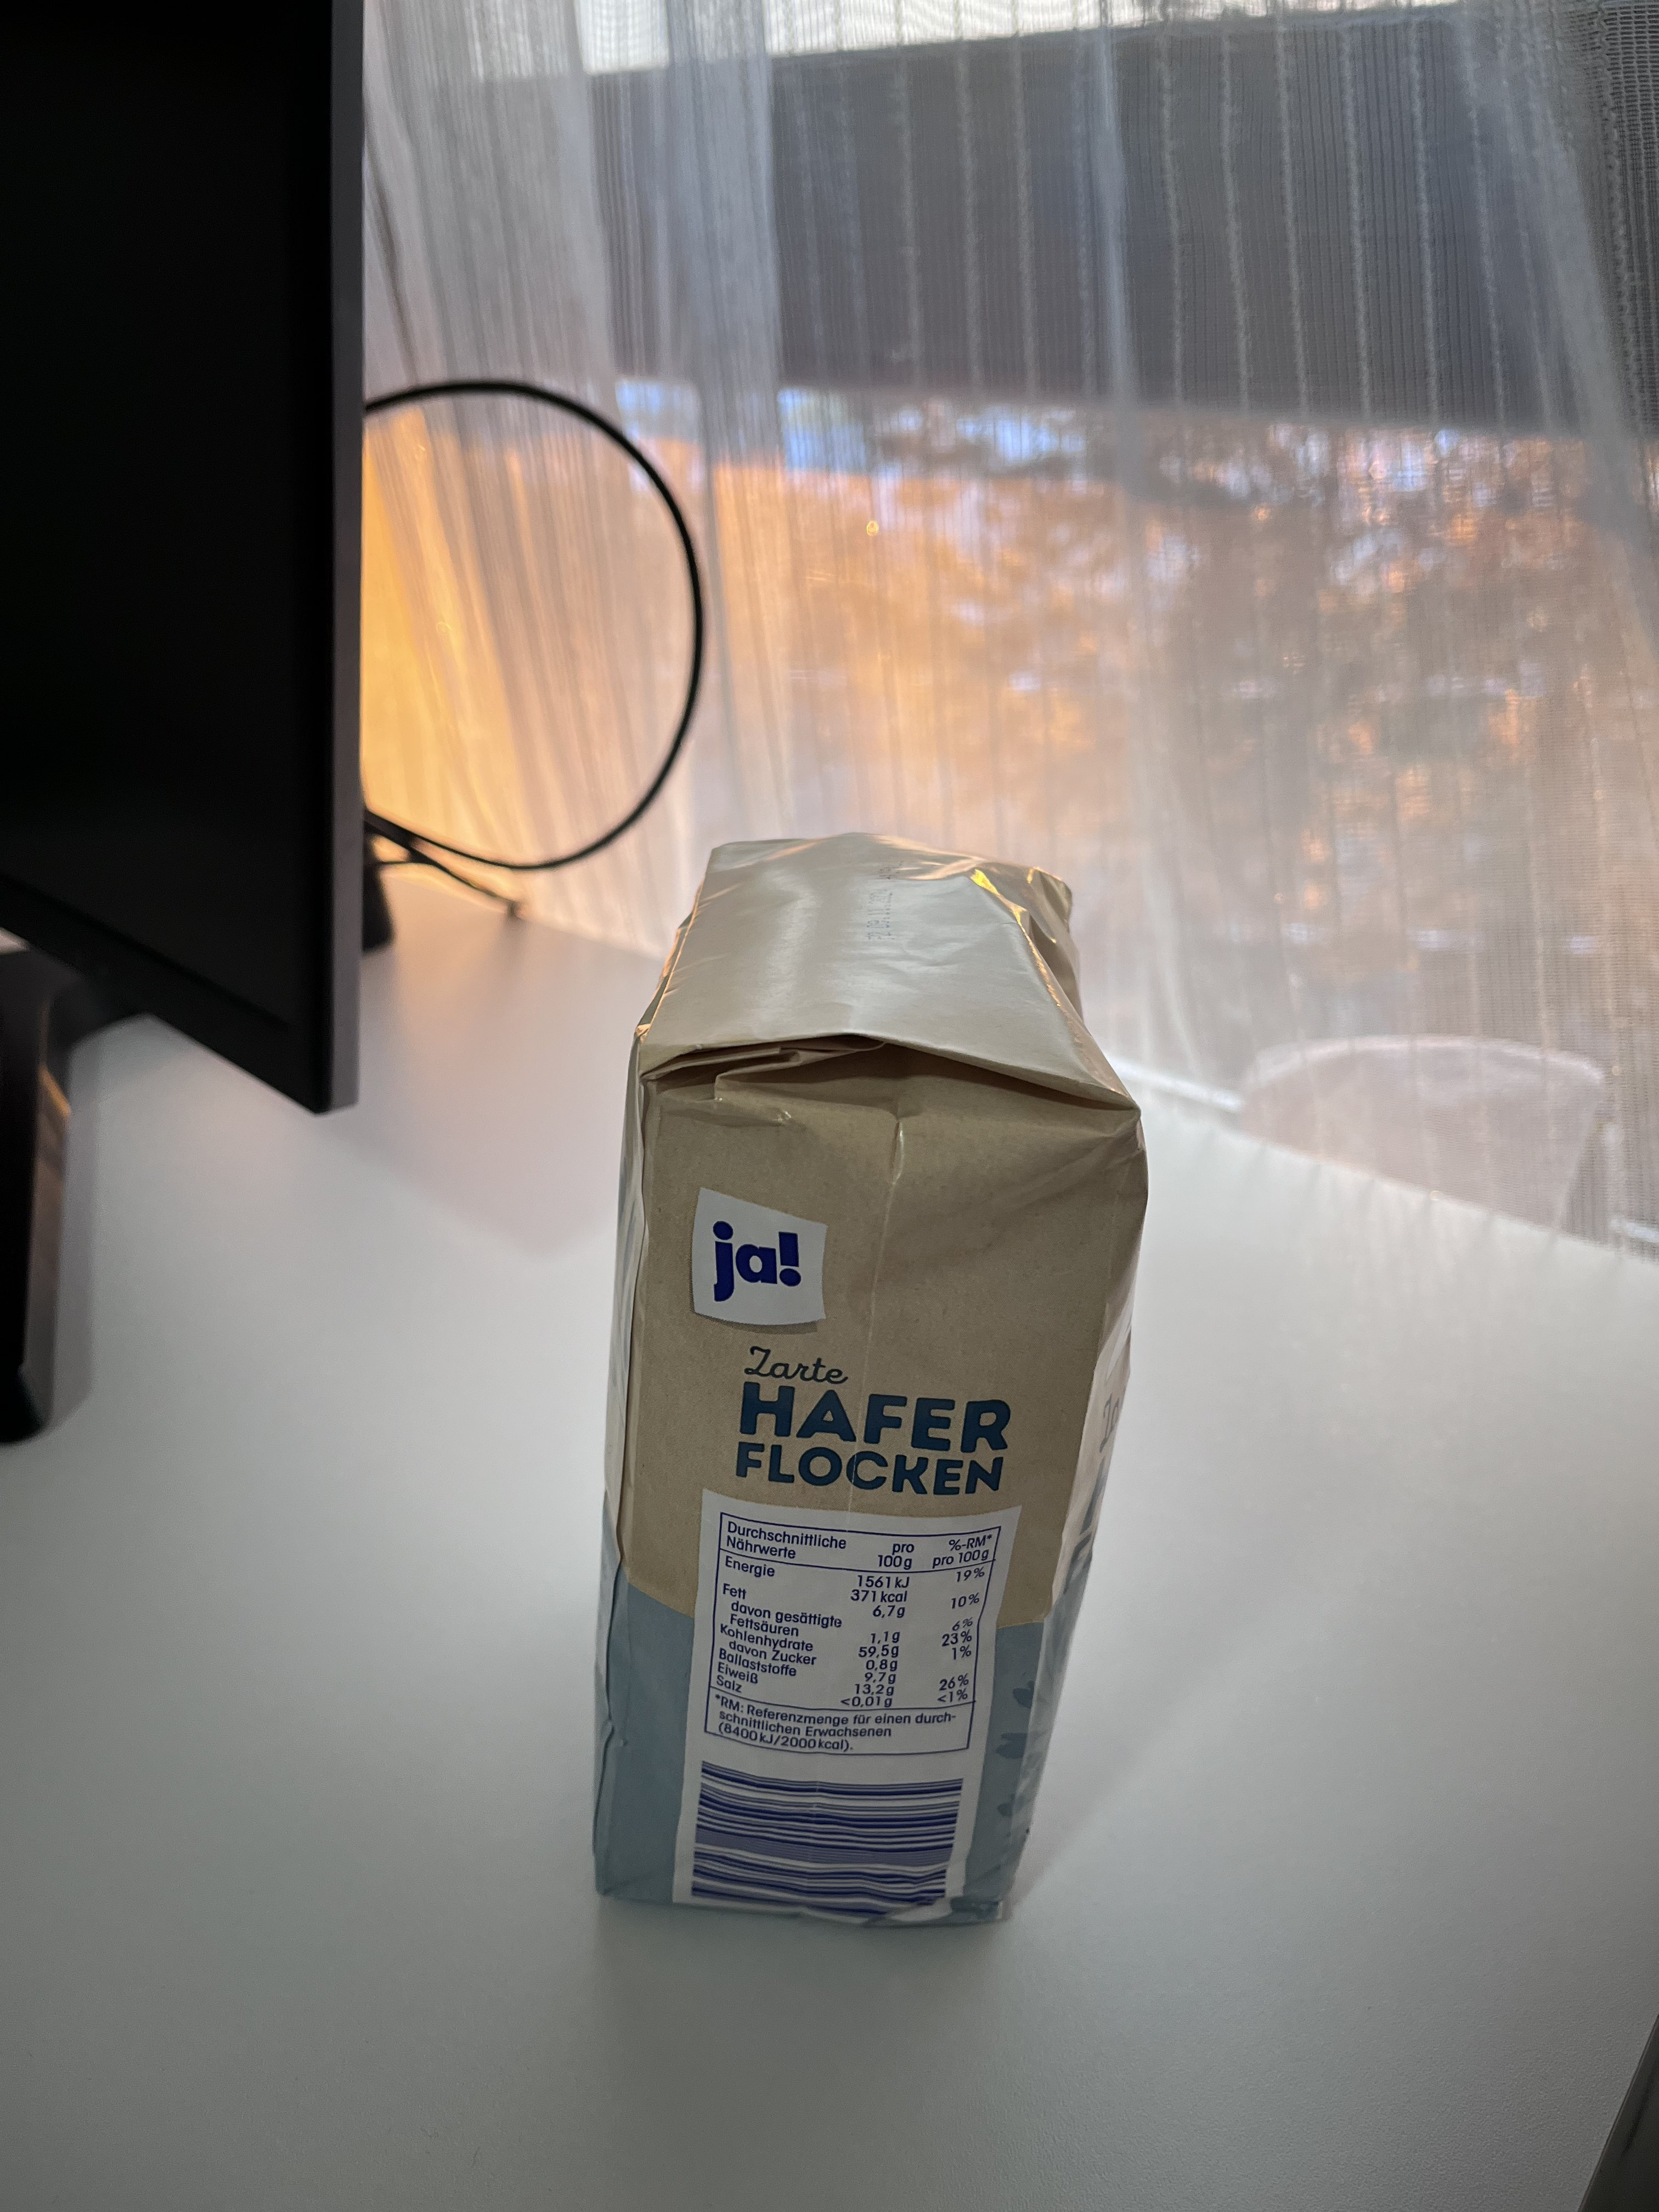haferflocken_ja: (587, 829, 1148, 1932)
